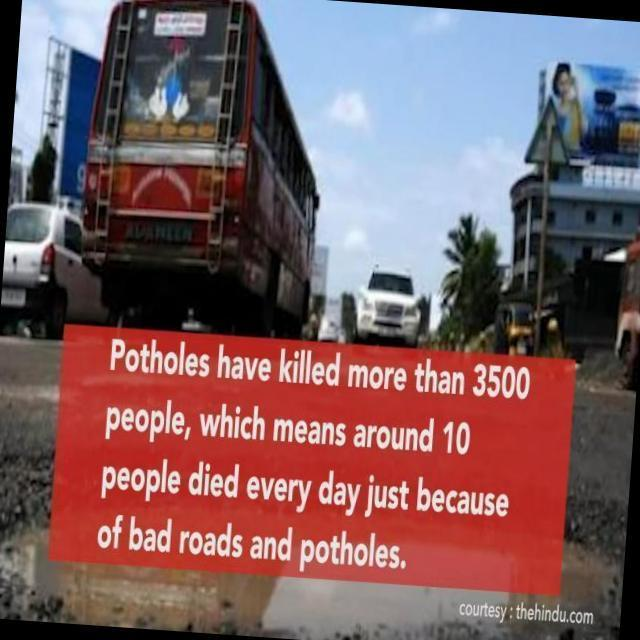Pothole: (0, 495, 623, 640)
